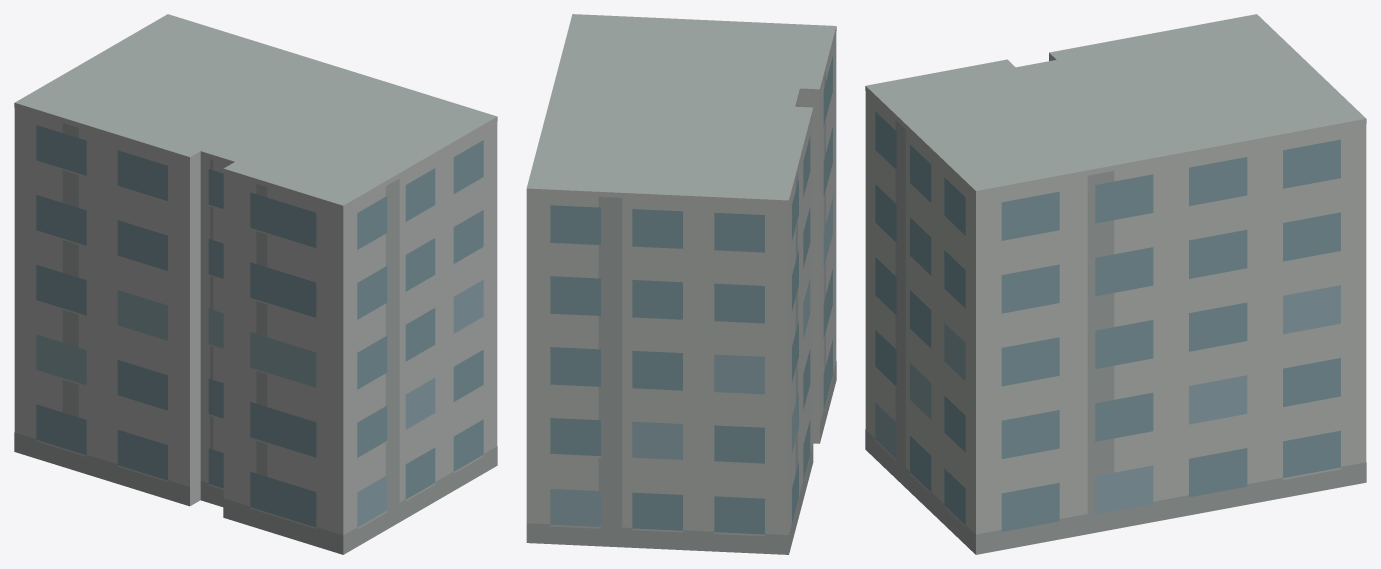
File: survey-upis-32585383.glb
3 renders of one model, left to right at view 1: azimuth 30°, elevation 25°; view 2: azimuth 150°, elevation 25°; view 3: azimuth 270°, elevation 25°, orthographic. The views are drawn at different scales.
Parts seen in each view (by area): view 1: survey-upis-32585383.tmp; view 2: survey-upis-32585383.tmp; view 3: survey-upis-32585383.tmp.
Boxes of the visible parts, x1=… form: survey-upis-32585383.tmp: x1=14, y1=14, x2=497, y2=554; survey-upis-32585383.tmp: x1=526, y1=14, x2=836, y2=554; survey-upis-32585383.tmp: x1=865, y1=14, x2=1366, y2=554.
Bounding box in the file's own units: 17.43 × 16.7 × 20.85.
